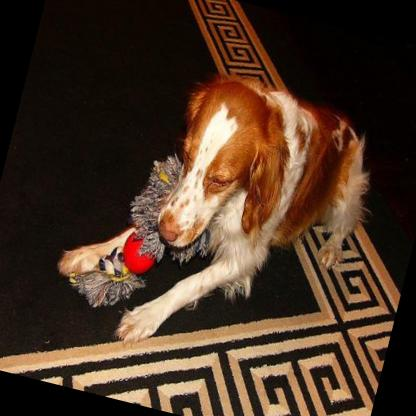Brittany_spaniel: (40, 39, 396, 394)
